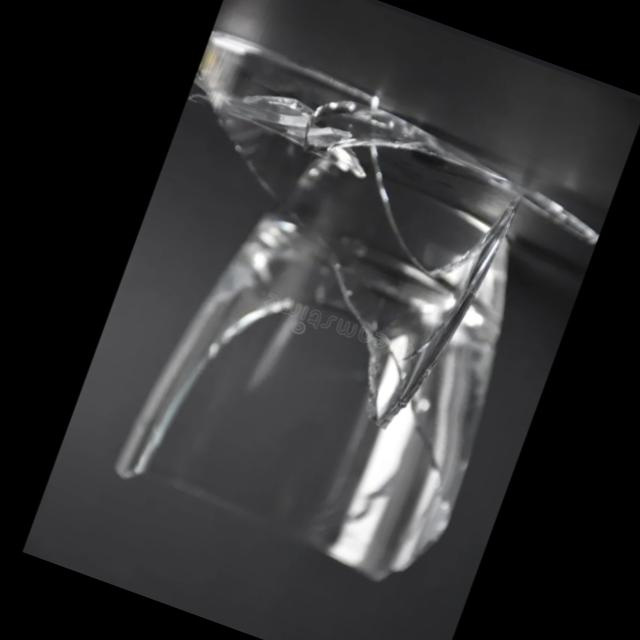PecahanKaca: (105, 91, 568, 602)
